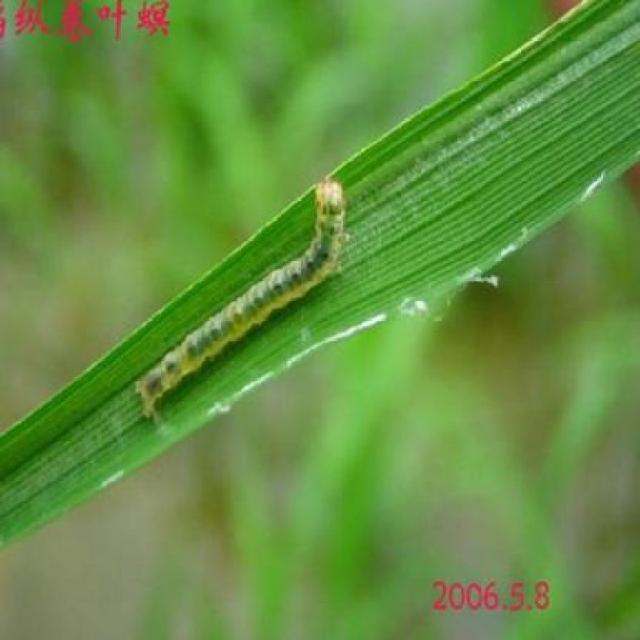leaf-folder: (98, 168, 374, 403)
